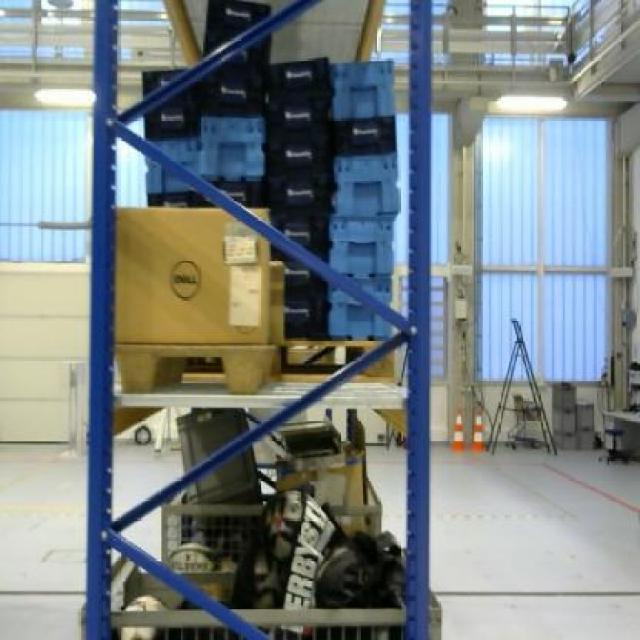box: (114, 202, 271, 344)
